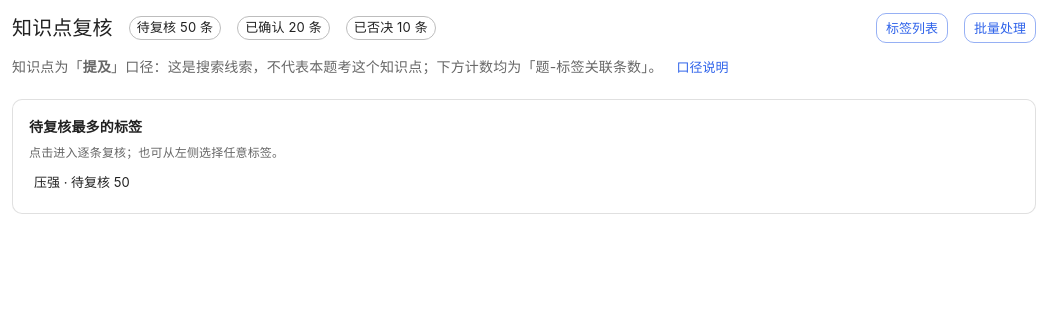
Test: T25 · KnowledgeReviewPage 只读态 › 只读账号：批量确认/否决 disabled，且就地说明「为什么」
Click the button "压强 · 待复核 50".
click(82, 182)  # box [29,166,135,197]
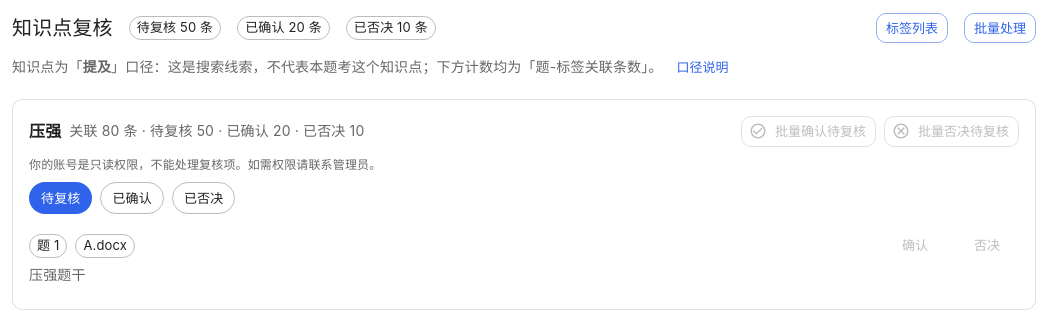
Check: the button "批量确认待复核" is disabled, box [741,116,876,147]
Check: the button "批量否决待复核" is disabled, box [884,116,1019,147]
Check: the button "确认" is disabled, box [883,230,947,261]
